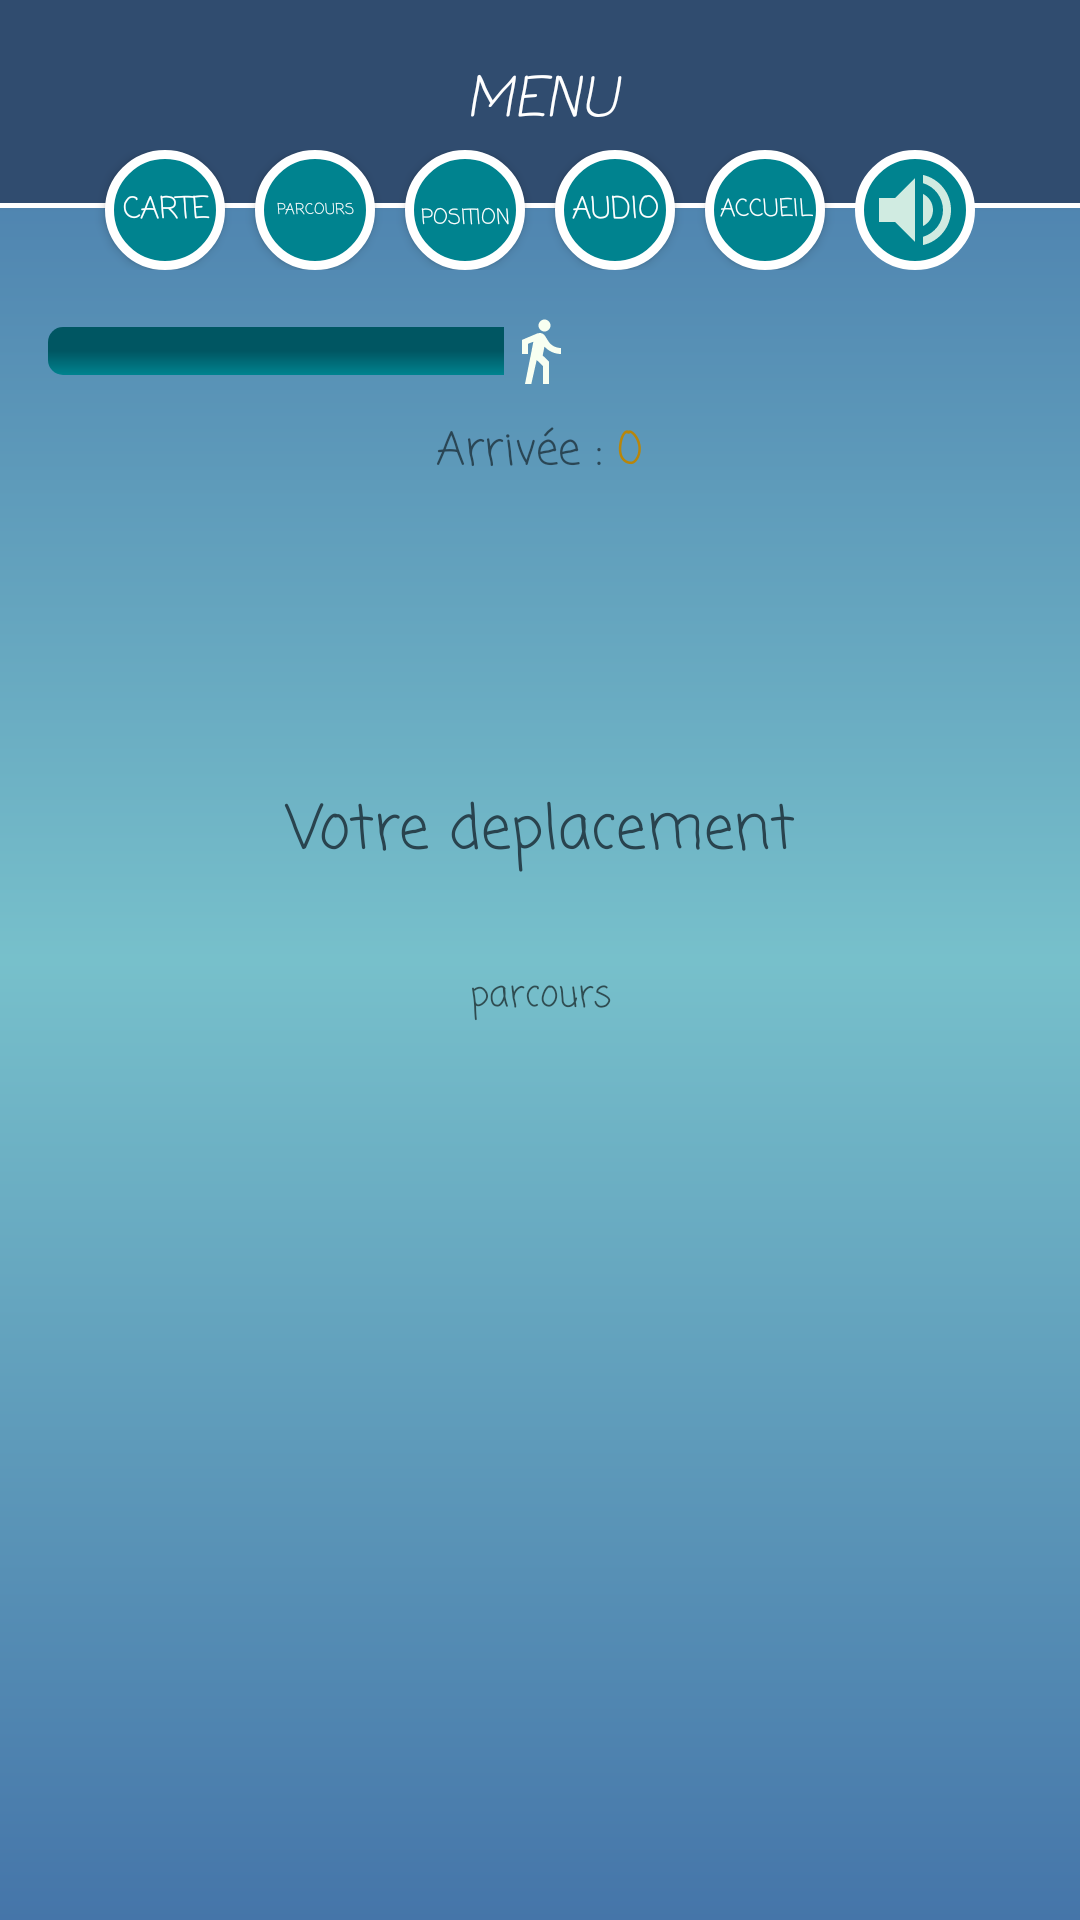

Point at icon controls on the screen. Image size 1080px×1920px, points as (x=x, y=y).
volume up: (x=915, y=210)
